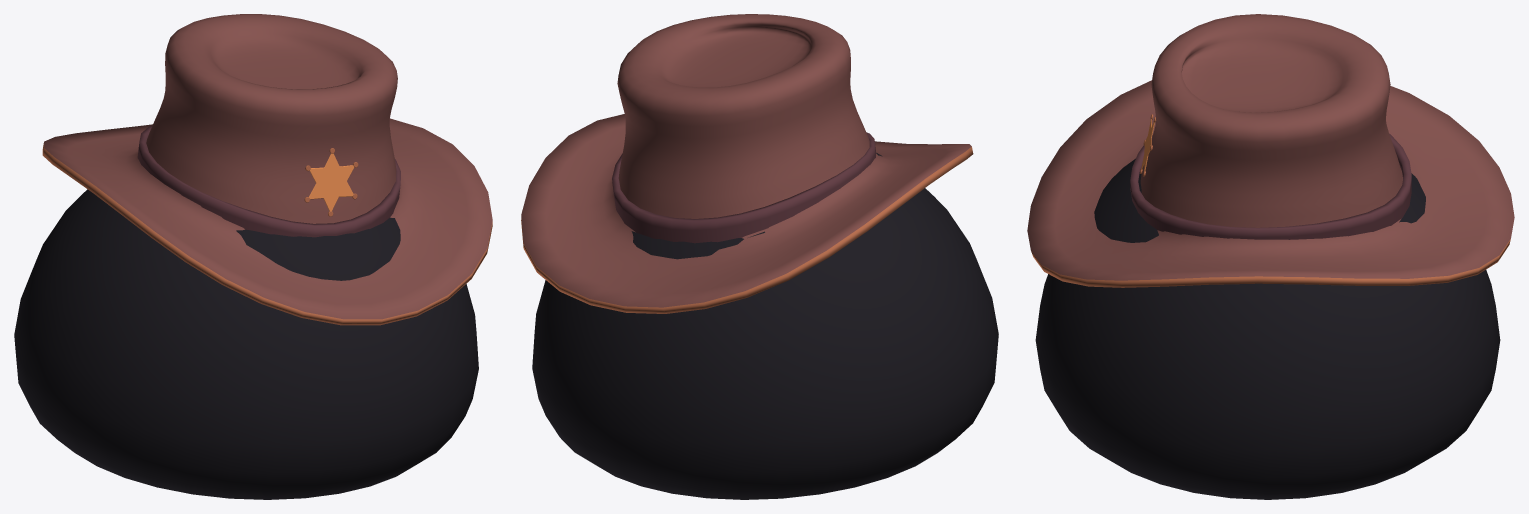
The model's file is Slime-Xerife-final.fbx.
3 views of the same model, side by side, from view 1: azimuth 30°, elevation 25°; view 2: azimuth 150°, elevation 25°; view 3: azimuth 270°, elevation 25° (orthographic).
Parts seen in each view (by area): view 1: Plane.002; view 2: Plane.002; view 3: Plane.002.
Part boxes in pixels (x1=…): Plane.002: x1=14, y1=14, x2=492, y2=499; Plane.002: x1=521, y1=14, x2=998, y2=499; Plane.002: x1=1027, y1=14, x2=1514, y2=499.
Size of the model in its own units: 134 by 126 by 140.
5 materials, 1 textured.
